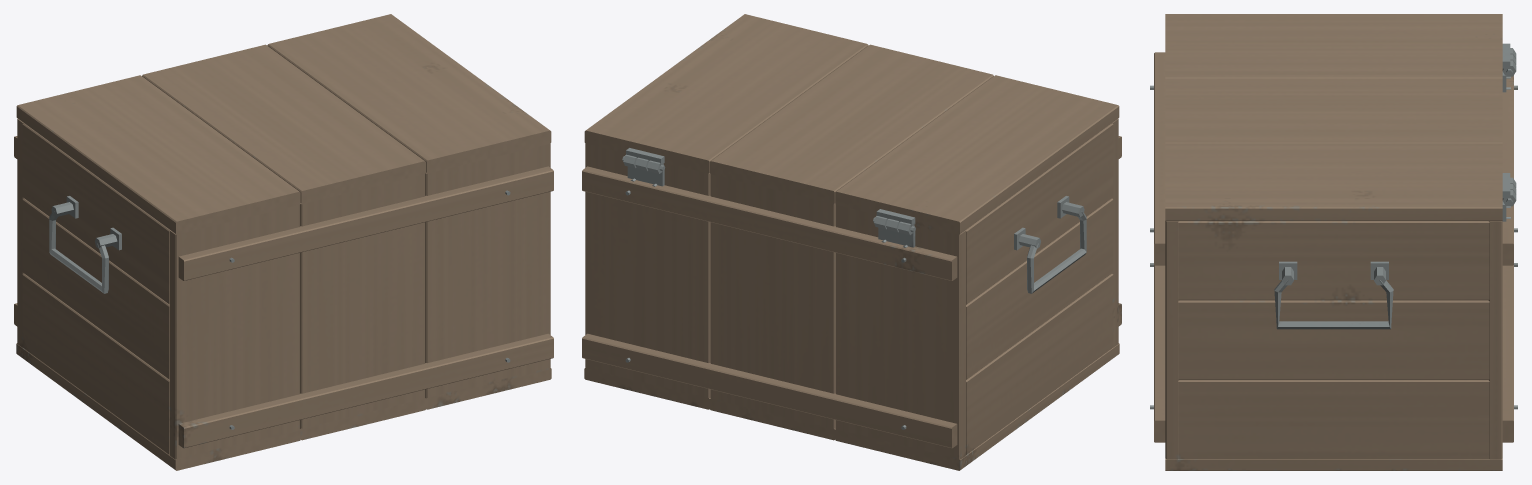
Rendered from lake_fishing_crate_closed.glb.
3 views of the same model, side by side, from view 1: azimuth 30°, elevation 25°; view 2: azimuth 150°, elevation 25°; view 3: azimuth 270°, elevation 25° (orthographic). The views are drawn at different scales.
Parts seen in each view (by area): view 1: FishingCrateClosed; view 2: FishingCrateClosed; view 3: FishingCrateClosed.
Boxes of the visible parts, x1,y1,x2,y2 form: FishingCrateClosed: [14, 14, 553, 470]; FishingCrateClosed: [582, 14, 1121, 470]; FishingCrateClosed: [1150, 14, 1517, 470].
Size of what is drawn, in the model's own units: 0.665 by 0.38 by 0.48.
Materials: 1 (1 with a texture image).
